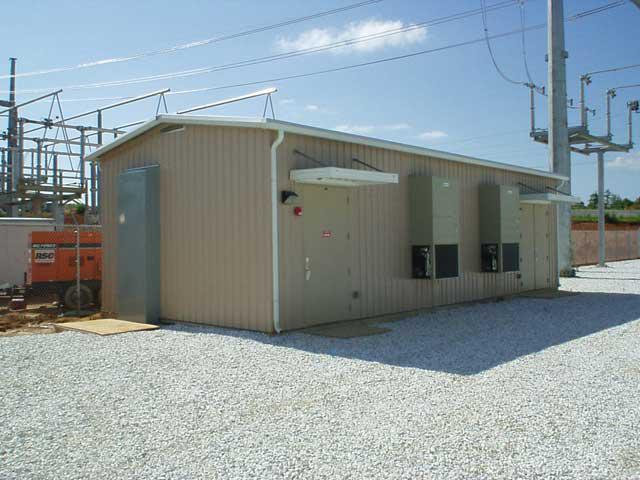affected: (75, 104, 568, 348)
